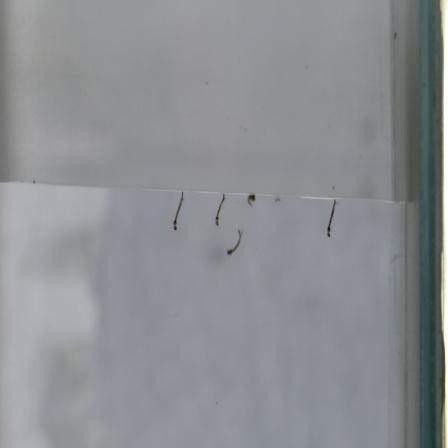Jentik-Nyamuk: (168, 187, 189, 237), (322, 196, 340, 243), (210, 192, 228, 229), (225, 228, 243, 260), (242, 191, 259, 212)
